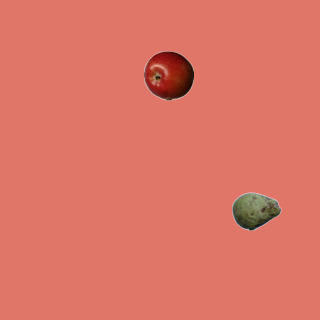Apple Braeburn: (143, 50, 193, 100)
Pear Stone: (231, 186, 281, 236)
